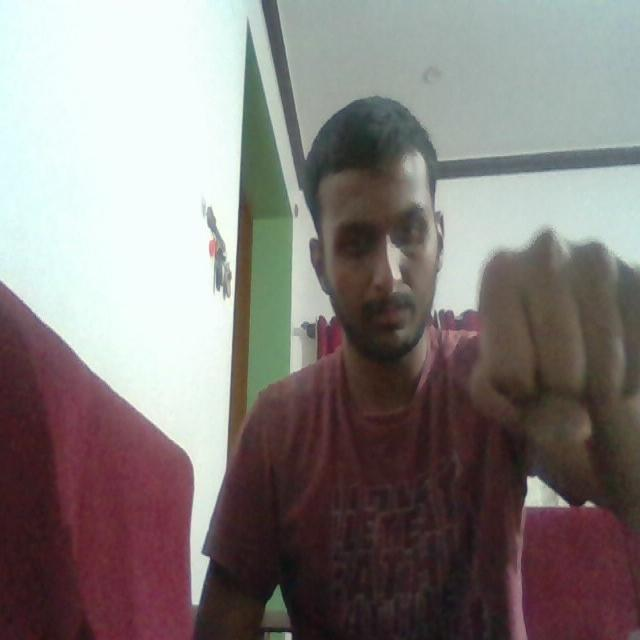yes: (457, 216, 640, 492)
